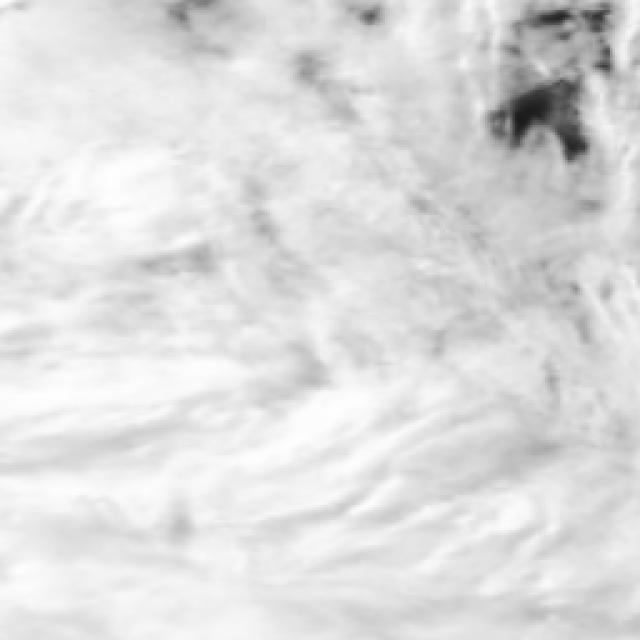CB: (0, 419, 223, 640), (417, 227, 640, 446), (0, 0, 207, 232), (415, 427, 640, 640), (212, 5, 412, 236), (209, 431, 429, 640), (208, 228, 422, 438), (0, 227, 221, 418)
